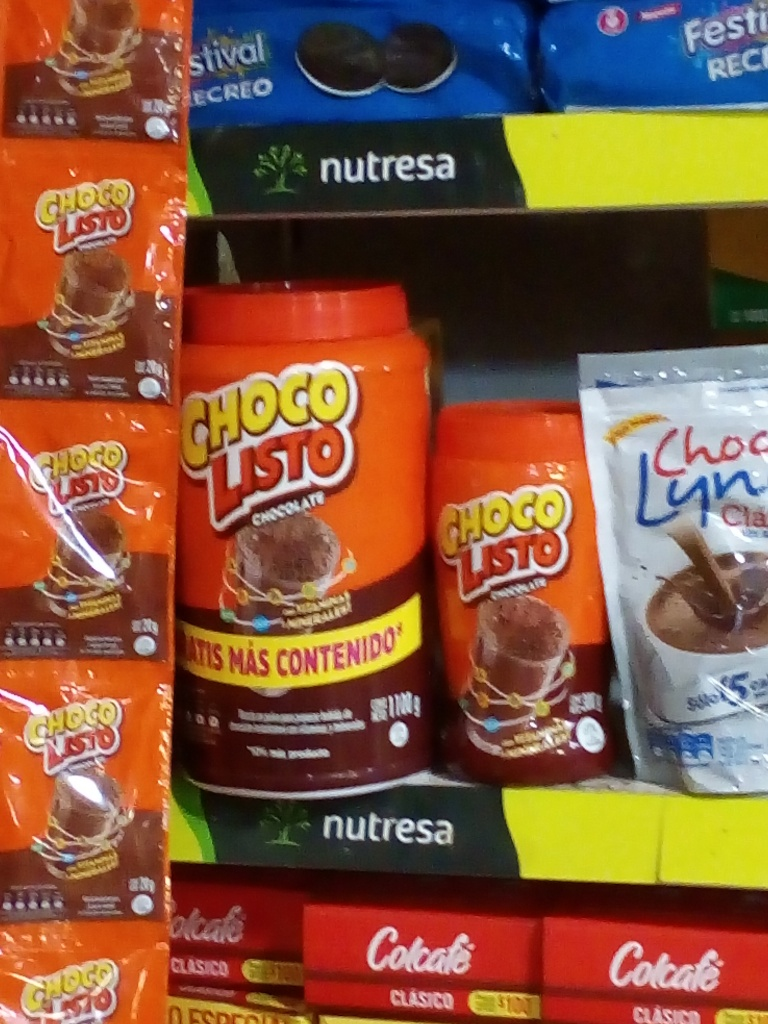COL0170103SOB02000: (4, 135, 188, 408)
COL0170103TRR00100: (172, 275, 442, 795)
